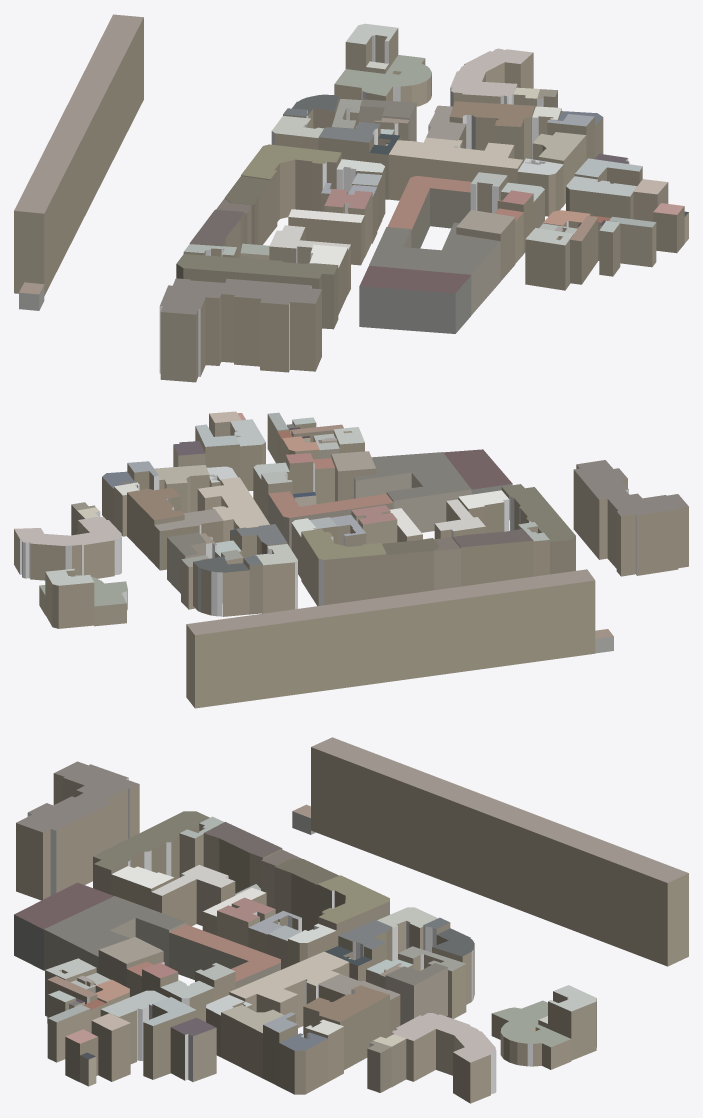
3 views of the same model, one above another, from view 1: azimuth 30°, elevation 25°; view 2: azimuth 150°, elevation 25°; view 3: azimuth 270°, elevation 25° (orthographic). The views are drawn at different scales.
Parts seen in each view (by area): view 1: tuile; view 2: tuile; view 3: tuile.
Boxes of the visible parts, x1,y1,x2,y2 form: tuile: (14, 14, 688, 382); tuile: (14, 411, 688, 708); tuile: (14, 737, 688, 1103).
Size of the model in its own units: 262 by 36.54 by 254.
